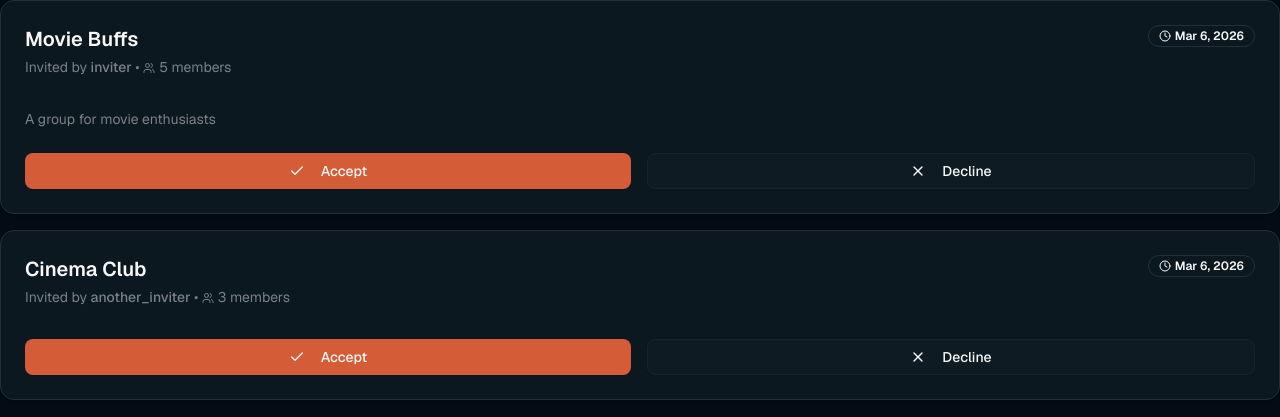
Test: ReceivedInvitations › should remove invitation from list after responding
This screenshot has width=1280, height=417.
Expected: the text "Movie Buffs" is shown, 25,26 -> 138,52
Expected: the text "Cinema Club" is shown, 25,256 -> 146,282
# Accept first invitation
Click the button "Accept" below "A group for movie enthusiasts": [328, 171] box 25,153 -> 631,189
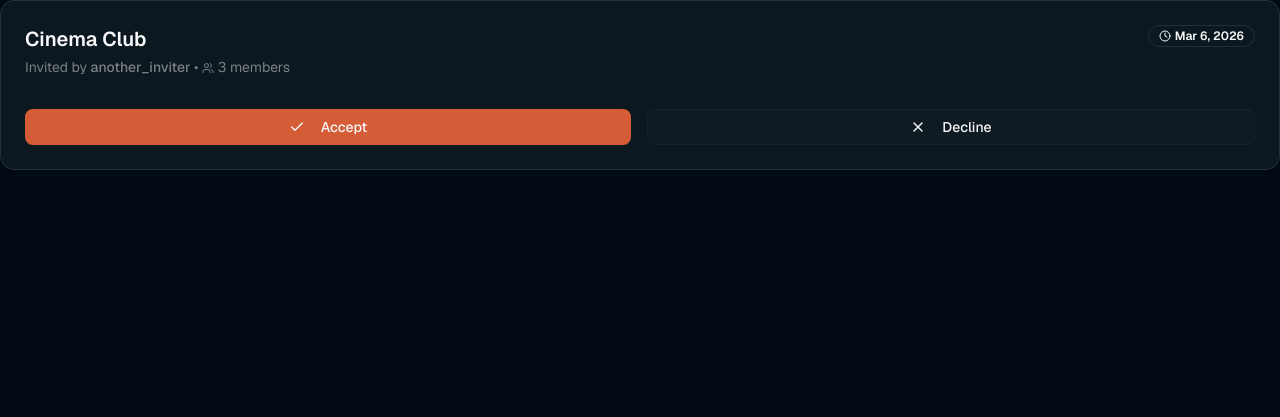
Expected: the text "Cinema Club" is shown, 25,26 -> 146,52
Now the text "Movie Buffs" is gone
